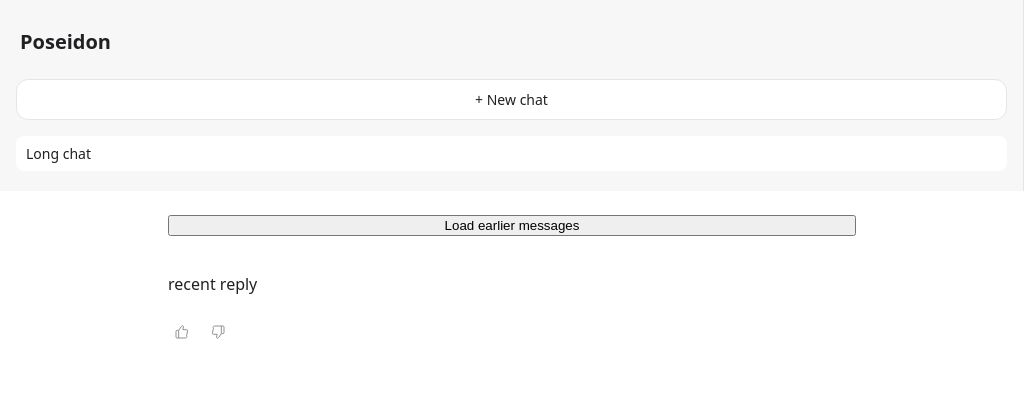
it: Load earlier is disabled and busy while its own fetch is in flight, and a second click is a no-op
expect the text "recent reply" is shown: met, box [168,272,257,298]
Click the button "Load earlier messages" at [512, 226], box [168,215,856,236]
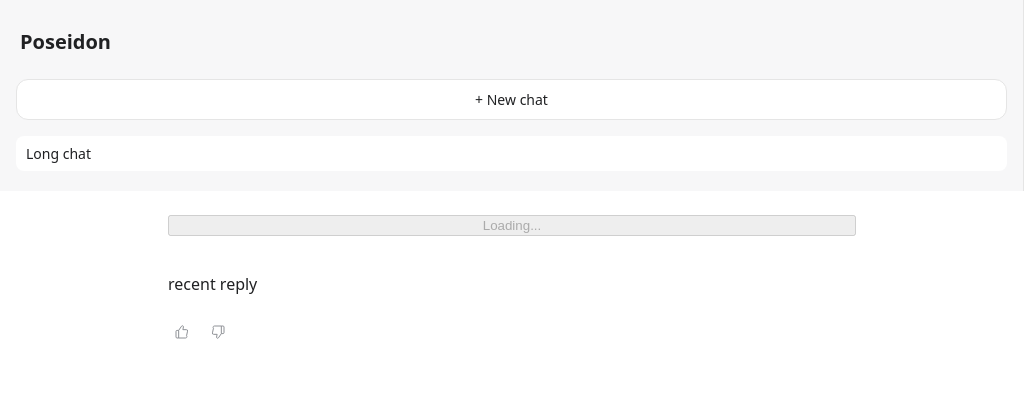
expect the button named "load earlier" is disabled: met
Click the button named "load earlier" at [512, 226], box [168,215,856,236]
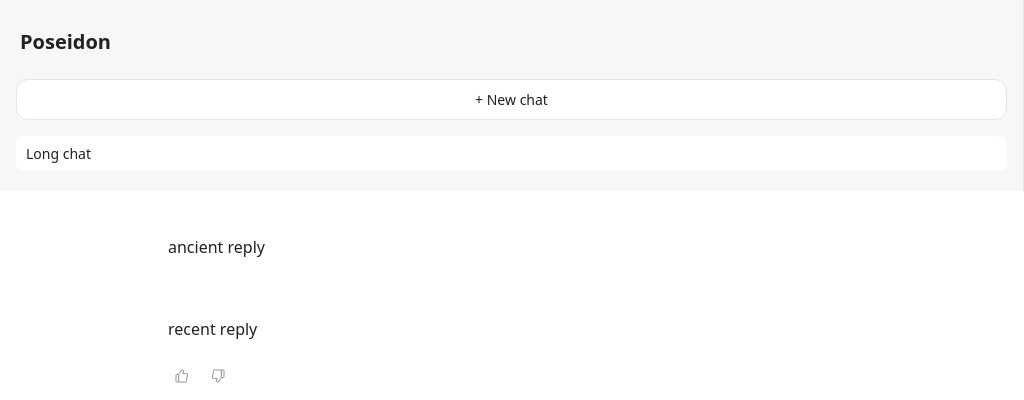
expect the text "ancient reply" is shown: met, box [168,235,265,261]
